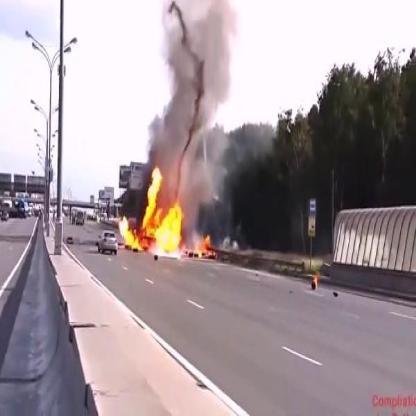fire: (116, 164, 216, 262), (312, 270, 320, 290)
